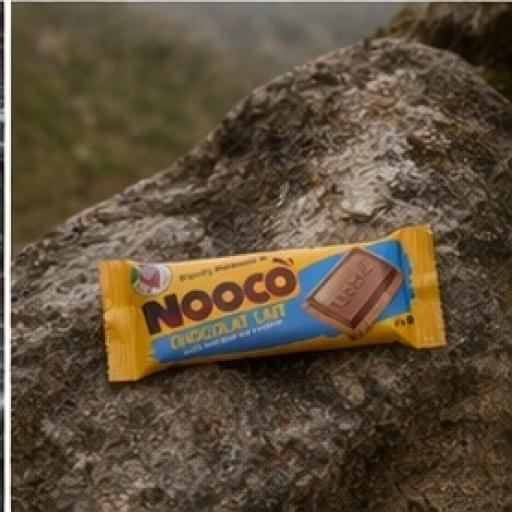biscuit-detection: (87, 221, 472, 392)
